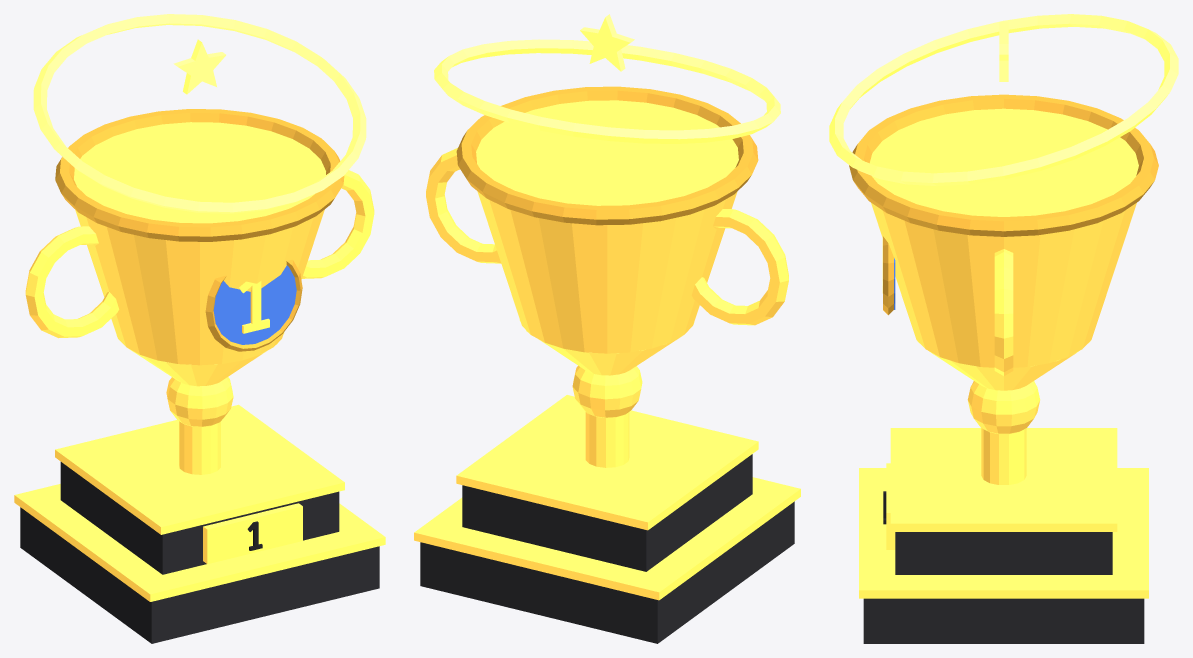
Rendered from login_m01_cup.glb.
3 renders of one model, left to right at view 1: azimuth 30°, elevation 25°; view 2: azimuth 150°, elevation 25°; view 3: azimuth 270°, elevation 25°, orthographic. The views are drawn at different scales.
Parts seen in each view (by area): view 1: login_m01_cup; view 2: login_m01_cup; view 3: login_m01_cup.
Part boxes in pixels (x1,y1,x2,y2): login_m01_cup: [14, 14, 385, 643]; login_m01_cup: [414, 14, 800, 643]; login_m01_cup: [829, 14, 1178, 643].
Bounding box in the file's own units: 0.948 × 1.37 × 0.7704.
